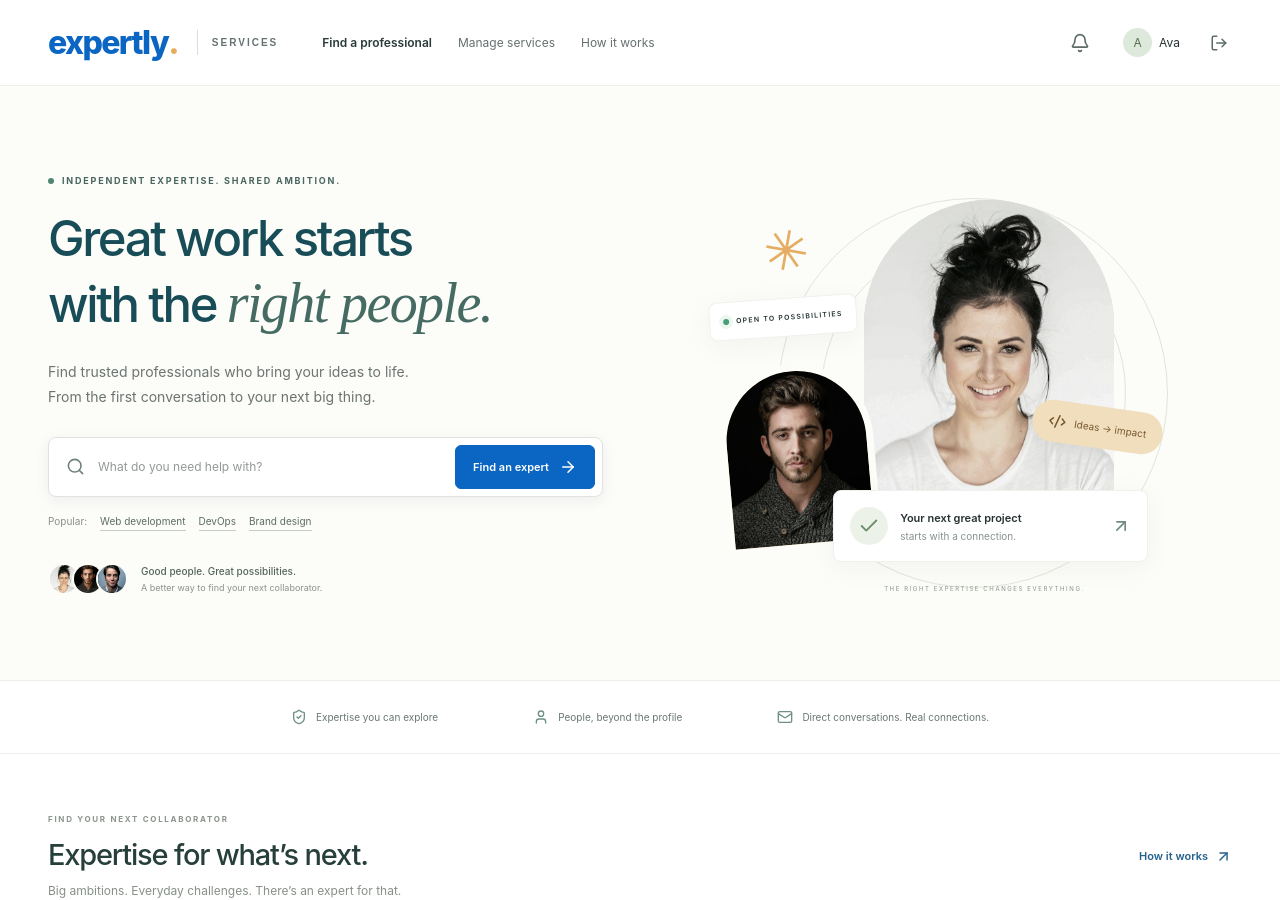
Scenario: a notification refresh failure is explicit and retry can recover
Click the button named "Notifications". click: coordinates (1080, 42)
box: [1063,26,1097,60]
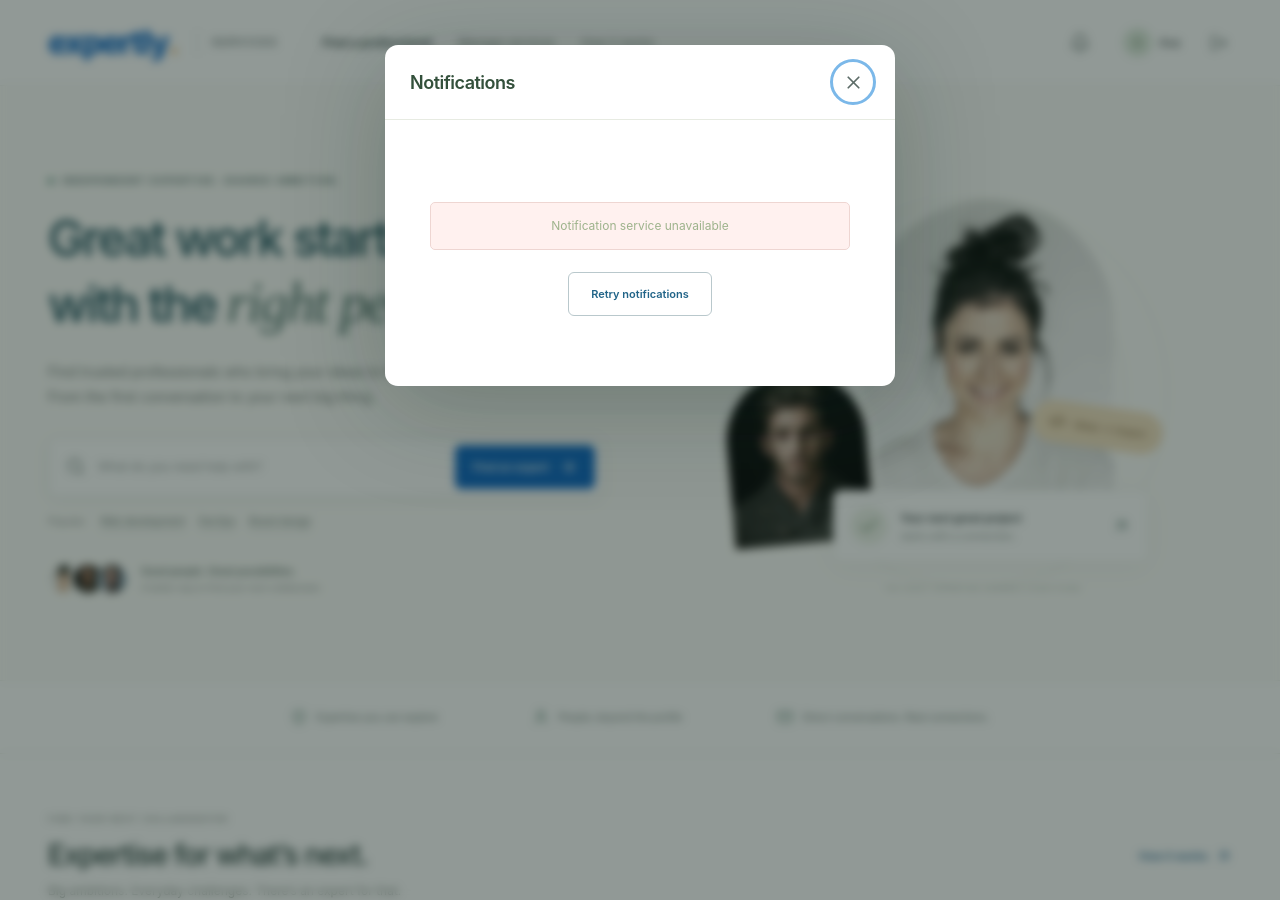
expect the text "You’re all caught up" is not shown: met
expect the message reads "Notification service unavailable": met, box [551,218,729,233]
Click the button "Retry notifications". click: coordinates (640, 294)
box: [568,272,712,316]
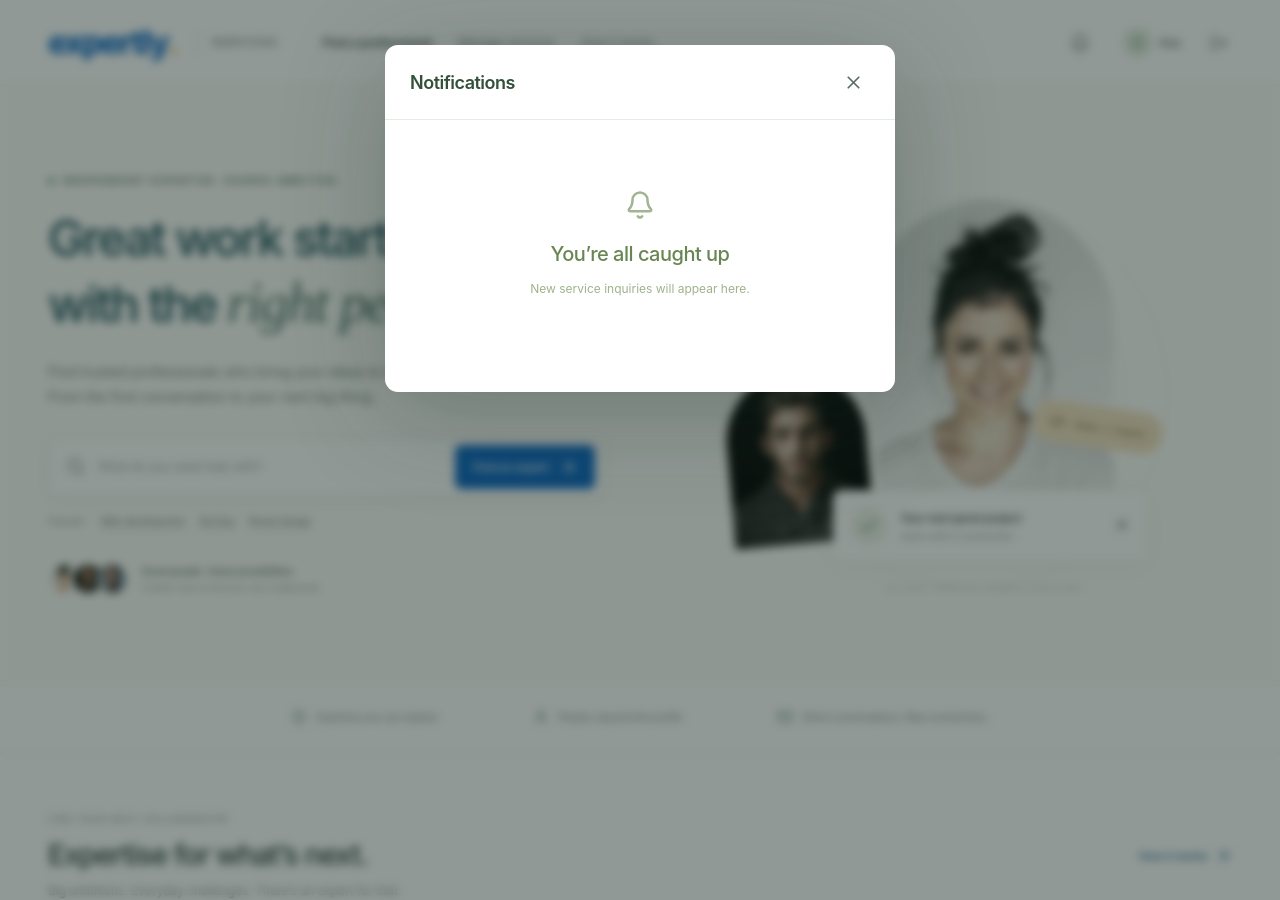
expect the heading "You’re all caught up" is shown: met, box [550,242,729,266]
